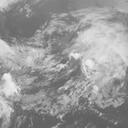cyclone: (70, 21, 126, 83)
